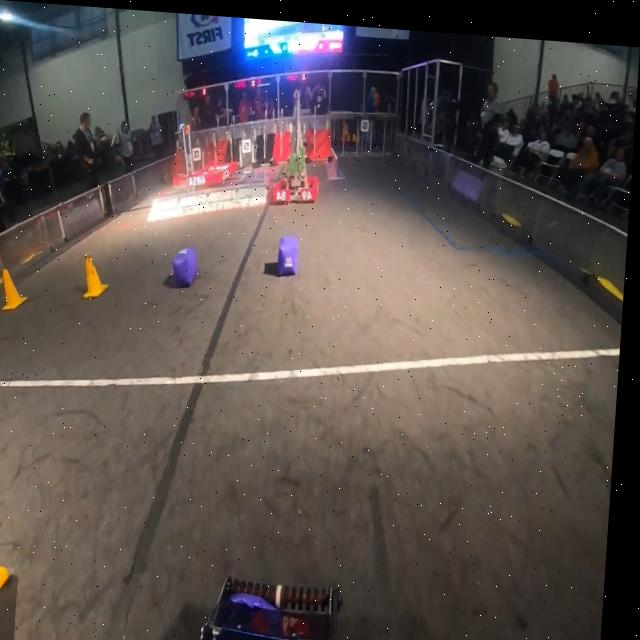robot: (273, 84, 328, 204), (172, 122, 212, 186), (188, 151, 238, 192)
